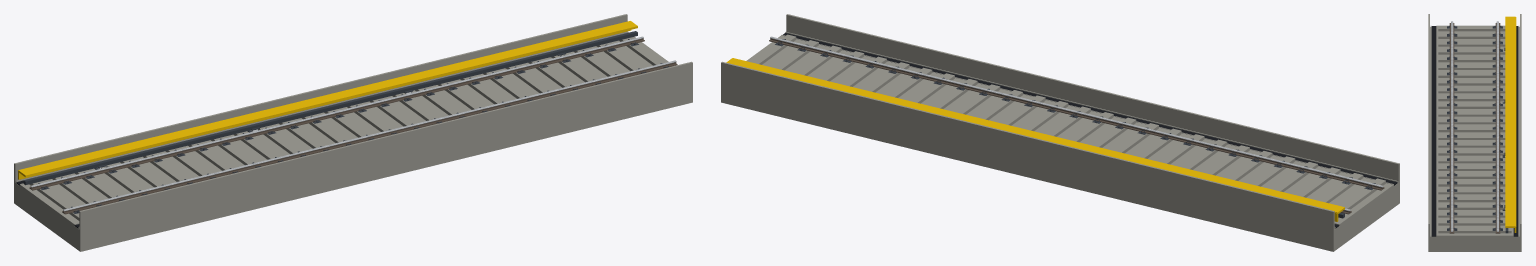
File: TrackDetails.glb
3 views of the same model, side by side, from view 1: azimuth 30°, elevation 25°; view 2: azimuth 150°, elevation 25°; view 3: azimuth 270°, elevation 25° (orthographic). The views are drawn at different scales.
Parts seen in each view (by area): view 1: track-trench-wall (×2), track-bed, concrete sleepers, track-details-waysideconcrete-001, third-rail-guard (×2), track-details-darksteel-012, track-running-rail (×2), track-details-trackrailweb-004, track-details-trackrailweb-002, track-details-trackrailweb-005, track-details-trackrailweb-003, track-details-waysideconcrete-011 (+2 smaller); view 2: track-trench-wall (×2), track-bed, concrete sleepers, track-details-waysideconcrete-001, third-rail-guard, track-running-rail, track-details-black-006, track-details-trackrailweb-002, track-details-waysideconcrete-007, track-details-trackrailweb-003, rail seats, track-details-waysideconcrete-008; view 3: concrete sleepers, track-details-waysideconcrete-001, third-rail-guard (×2), track-bed, track-details-black-006, track-running-rail (×2), rail seats, track-trench-wall (×2), track-details-trackrailweb-004, track-details-trackrailweb-002, track-details-black-009, spring clips (+4 smaller).
Boxes of the visible parts, bbox=[...] form: track-trench-wall (×2): bbox=[14, 14, 692, 230]; track-bed: bbox=[14, 81, 692, 251]; concrete sleepers: bbox=[29, 37, 664, 220]; track-details-waysideconcrete-001: bbox=[20, 36, 668, 225]; third-rail-guard (×2): bbox=[18, 21, 637, 179]; track-details-darksteel-012: bbox=[23, 31, 637, 185]; track-running-rail (×2): bbox=[30, 36, 676, 211]; track-details-trackrailweb-004: bbox=[29, 39, 644, 190]; track-details-trackrailweb-002: bbox=[62, 63, 677, 214]; track-details-trackrailweb-005: bbox=[30, 38, 643, 188]; track-details-trackrailweb-003: bbox=[63, 62, 676, 212]; track-details-waysideconcrete-011: bbox=[15, 32, 628, 182]; track-trench-wall (×2): bbox=[721, 14, 1399, 230]; track-bed: bbox=[721, 81, 1399, 251]; concrete sleepers: bbox=[750, 34, 1385, 217]; track-details-waysideconcrete-001: bbox=[746, 35, 1393, 225]; third-rail-guard: bbox=[726, 58, 1344, 213]; track-running-rail: bbox=[770, 36, 1383, 187]; track-details-black-006: bbox=[783, 33, 1397, 185]; track-details-trackrailweb-002: bbox=[769, 39, 1384, 190]; track-details-waysideconcrete-007: bbox=[785, 32, 1398, 182]; track-details-trackrailweb-003: bbox=[770, 38, 1383, 188]; rail seats: bbox=[775, 43, 1373, 190]; track-details-waysideconcrete-008: bbox=[781, 35, 1393, 184]; concrete sleepers: bbox=[1438, 26, 1511, 233]; track-details-waysideconcrete-001: bbox=[1436, 25, 1513, 236]; third-rail-guard (×2): bbox=[1505, 16, 1516, 232]; track-bed: bbox=[1428, 27, 1521, 251]; track-details-black-006: bbox=[1431, 26, 1436, 236]; track-running-rail (×2): bbox=[1451, 21, 1498, 231]; rail seats: bbox=[1447, 26, 1502, 230]; track-trench-wall (×2): bbox=[1428, 14, 1521, 236]; track-details-trackrailweb-004: bbox=[1495, 23, 1500, 233]; track-details-trackrailweb-002: bbox=[1449, 23, 1454, 233]; track-details-black-009: bbox=[1513, 26, 1518, 236]; spring clips: bbox=[1448, 25, 1501, 229].
Bounding box in the file's own units: 16 × 1 × 3.
7 materials, 1 textured.
